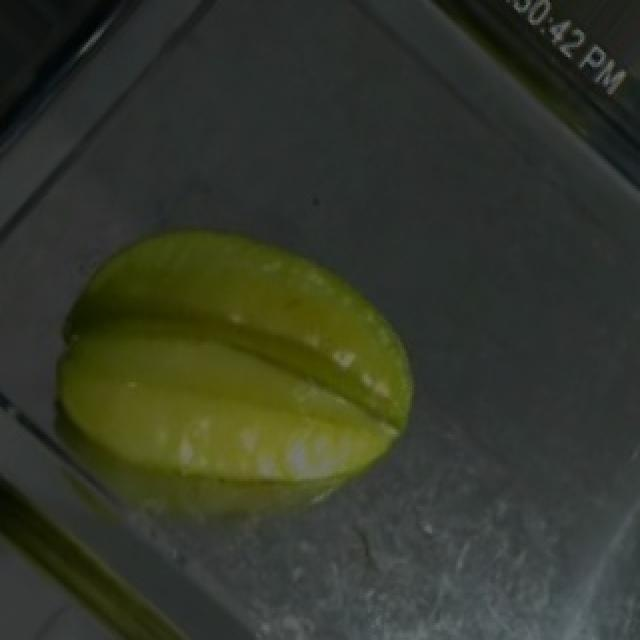fruit: (20, 89, 476, 608)
